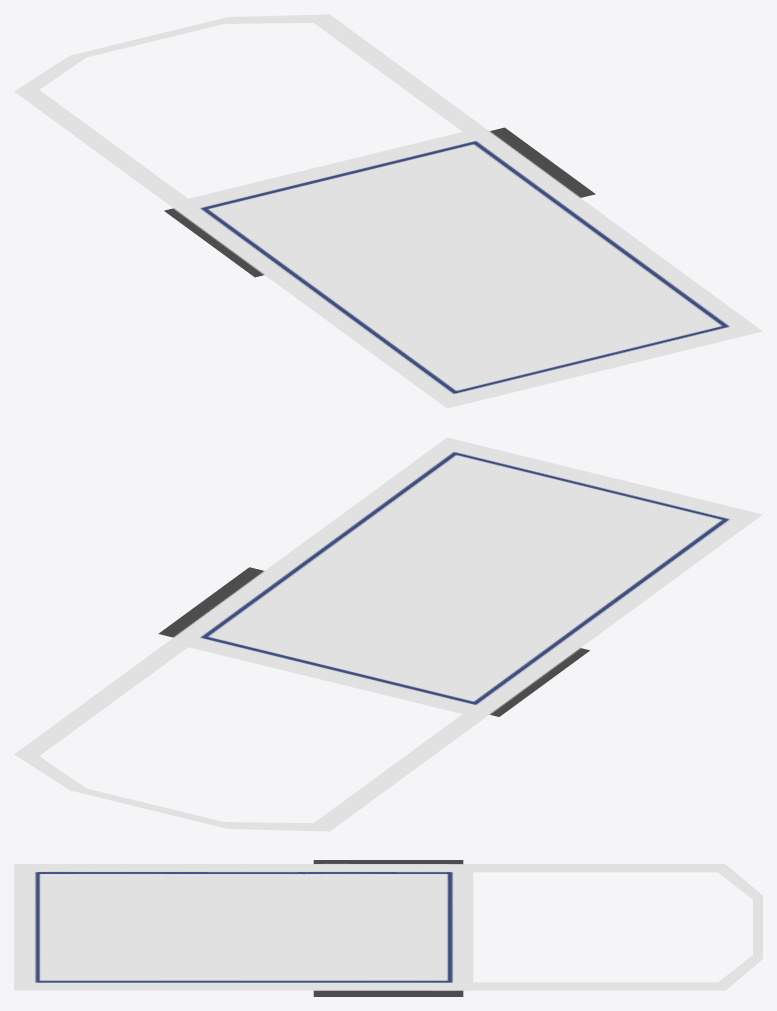
The model's file is Lift_03_Floor_Level_03 2.fbx.
The picture shows the model from 3 angles, top to bottom: view 1: azimuth 30°, elevation 25°; view 2: azimuth 150°, elevation 25°; view 3: azimuth 270°, elevation 25°; orthographic projection. The views are drawn at different scales.
Parts seen in each view (by area): view 1: Lift_03_Floor_Level_03; view 2: Lift_03_Floor_Level_03; view 3: Lift_03_Floor_Level_03.
Boxes of the visible parts, <box> form: Lift_03_Floor_Level_03: <box>14,14,762,408</box>; Lift_03_Floor_Level_03: <box>14,437,762,831</box>; Lift_03_Floor_Level_03: <box>14,860,762,996</box>.
Size of the model in its own units: 1728 by 0.000244 by 4000.
